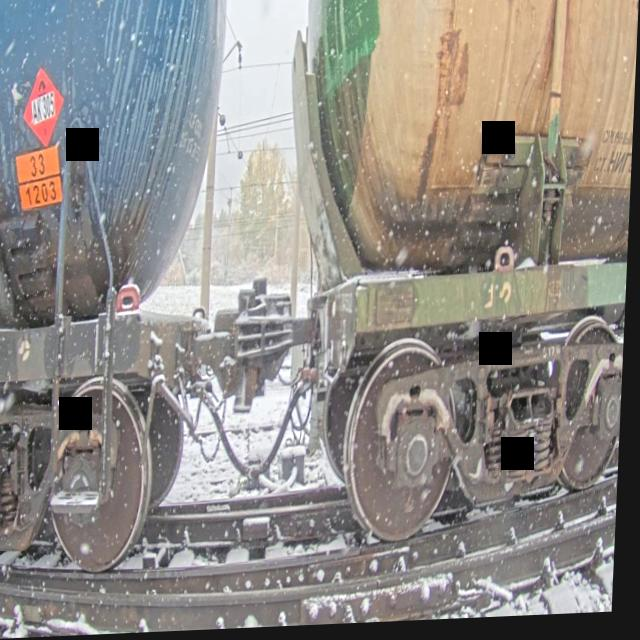tank: (260, 0, 640, 565), (0, 0, 233, 594)
